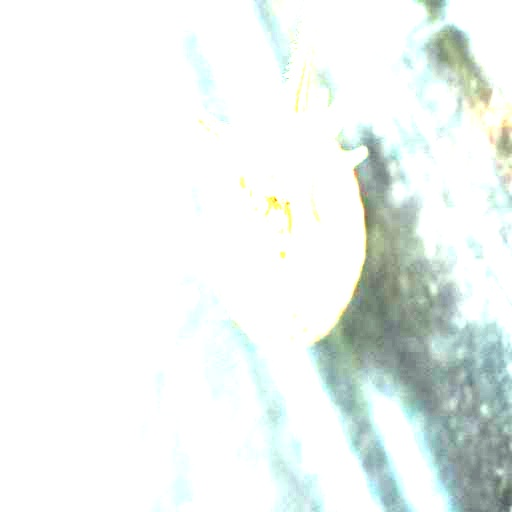Gray Mold: (191, 110, 334, 270)
